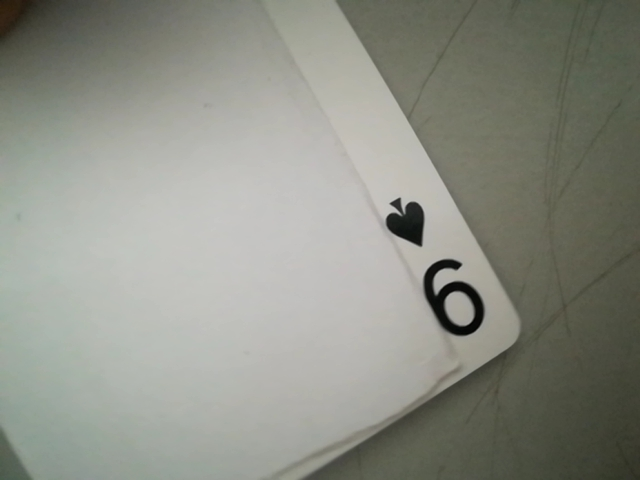ht 9: (382, 187, 510, 349)
